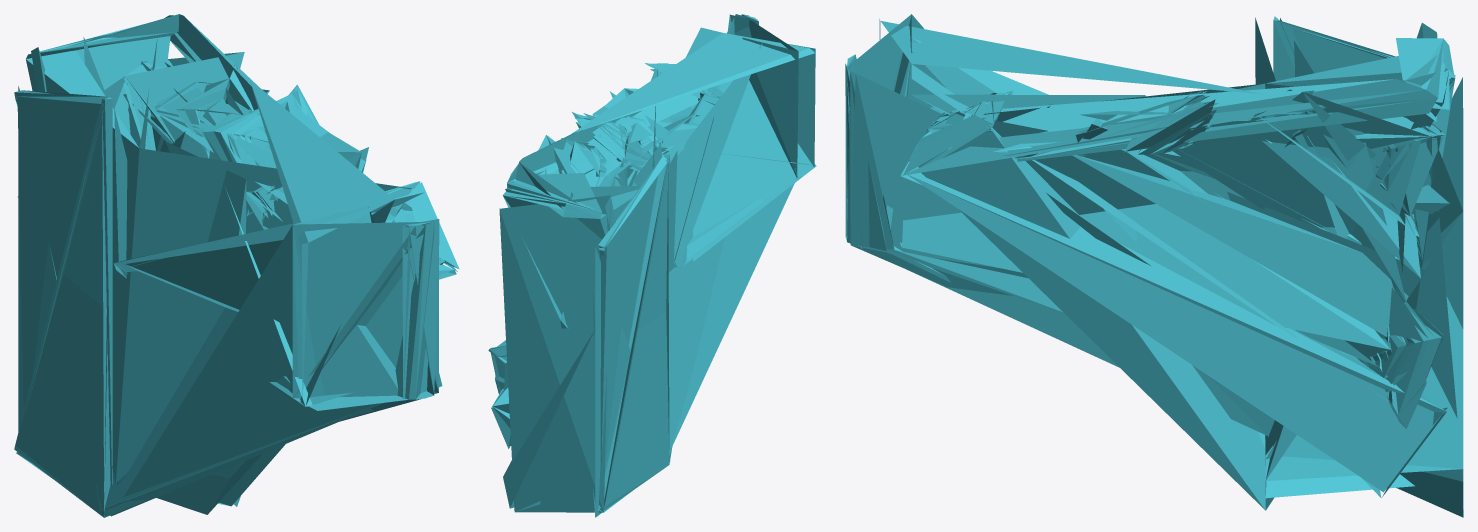
3 views of the same model, side by side, from view 1: azimuth 30°, elevation 25°; view 2: azimuth 150°, elevation 25°; view 3: azimuth 270°, elevation 25° (orthographic). The views are drawn at different scales.
Parts seen in each view (by area): view 1: Renderer Node; view 2: Renderer Node; view 3: Renderer Node.
Boxes of the visible parts, left/top/right/bottom form: Renderer Node: left=14, top=14, right=459, bottom=517; Renderer Node: left=488, top=14, right=816, bottom=517; Renderer Node: left=845, top=14, right=1463, bottom=517.
Bounding box in the file's own units: 0.249 × 0.6057 × 0.7531.
1 material, 1 textured.
